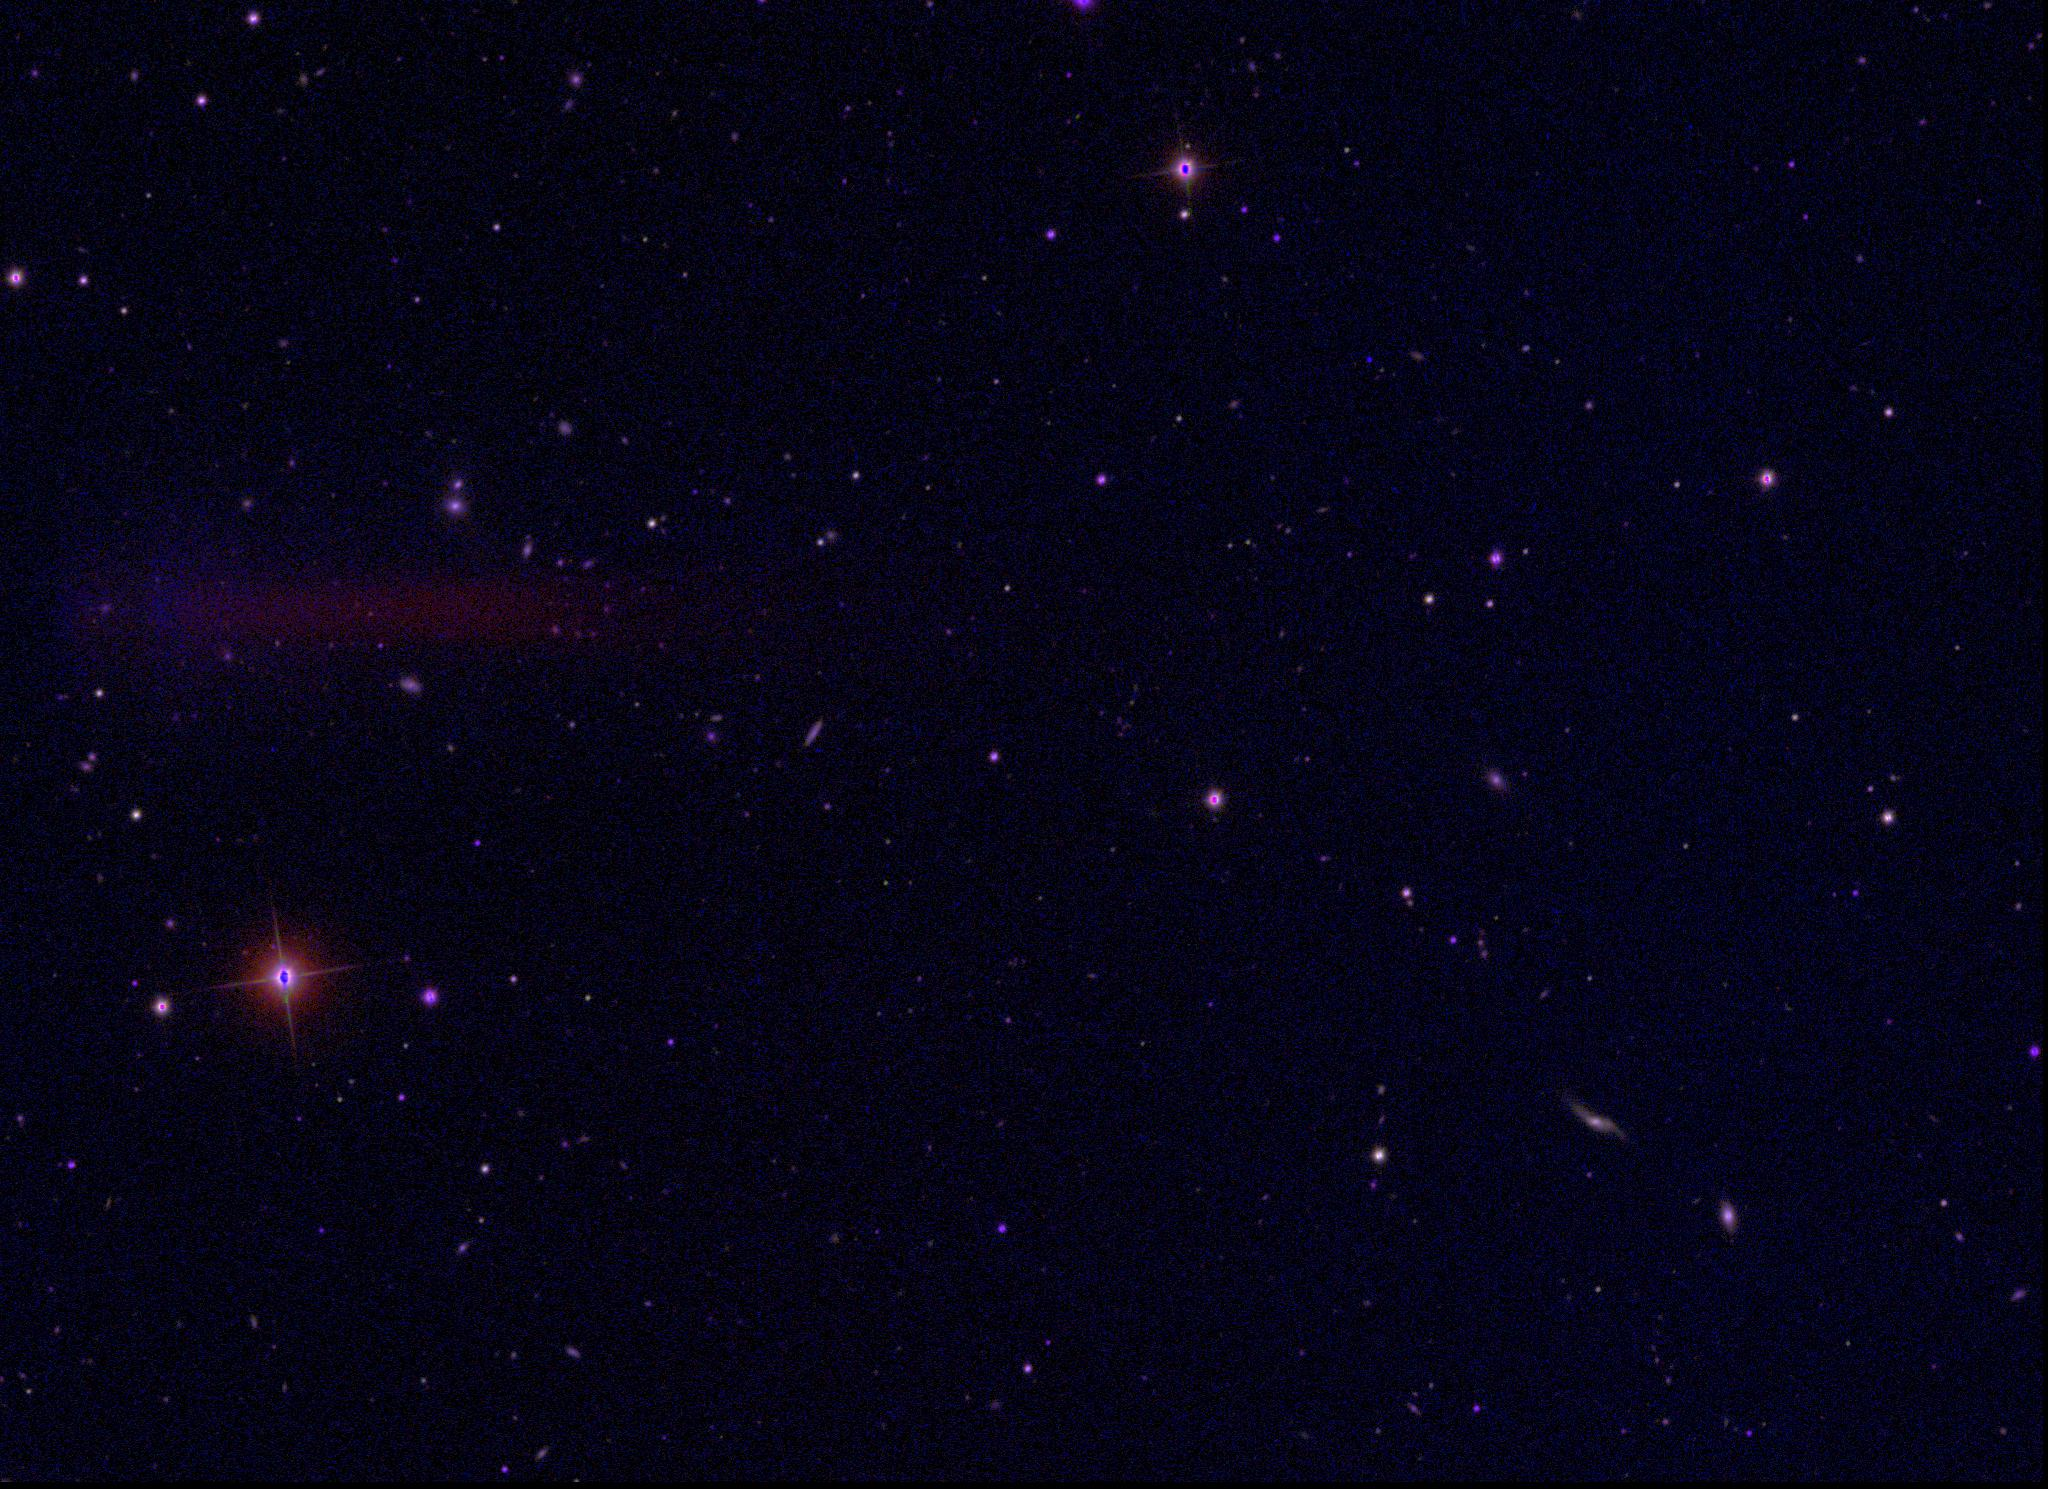L: (1363, 353, 1377, 367)
